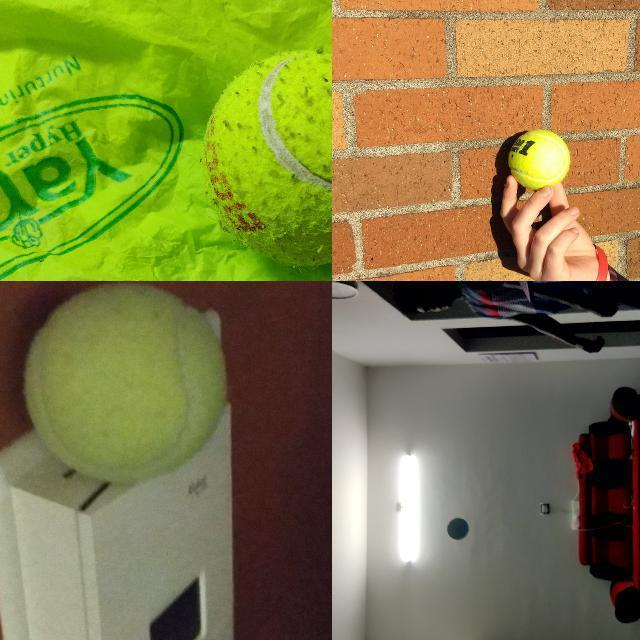tennis-ball: (19, 281, 231, 484), (200, 49, 331, 268), (508, 130, 570, 190), (447, 518, 469, 540)
